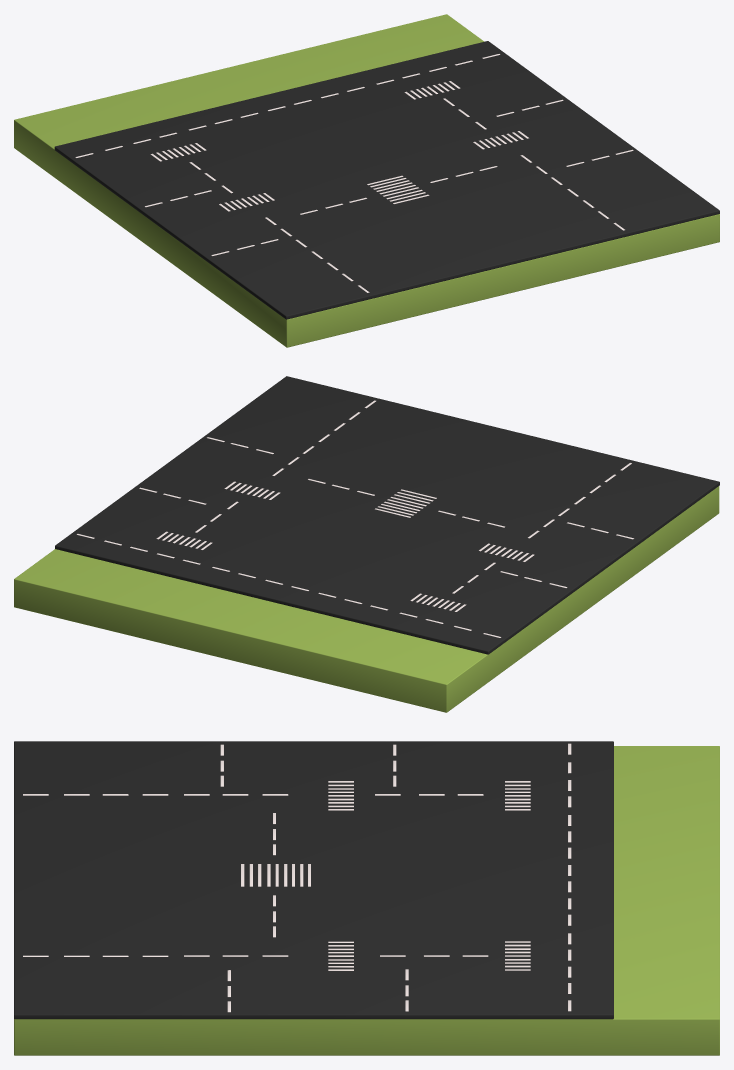
The model's file is city_cimientos.fbx.
3 renders of one model, top to bottom at view 1: azimuth 30°, elevation 25°; view 2: azimuth 150°, elevation 25°; view 3: azimuth 270°, elevation 25°, orthographic. The views are drawn at different scales.
Visible parts, largest first — view 1: Cera, Suelo verde, Cube.234; view 2: Cera, Suelo verde, Cube.234; view 3: Cera, Suelo verde, Cube.234.
Part boxes in pixels (box(x1,y1,x2,y2)): Cera: box(54, 41, 719, 319); Suelo verde: box(14, 14, 719, 347); Cube.234: box(75, 54, 633, 292); Cera: box(55, 376, 719, 654); Suelo verde: box(14, 486, 719, 712); Cube.234: box(76, 400, 633, 637); Cera: box(14, 741, 613, 1019); Suelo verde: box(14, 746, 719, 1055); Cube.234: box(23, 743, 571, 1012).
Size of the model in its own units: 6620 by 469 by 7215.
